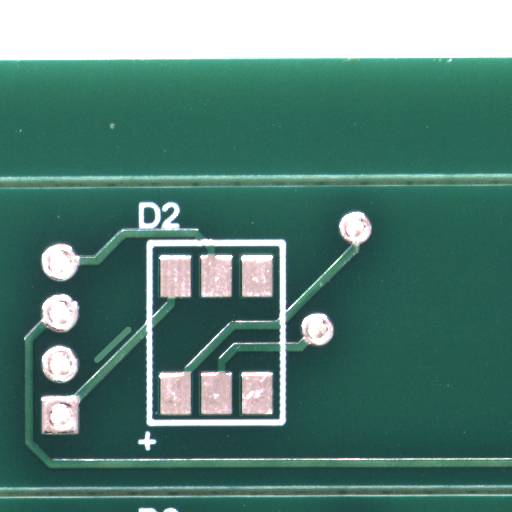Spurious_copper: (111, 344, 150, 381)
